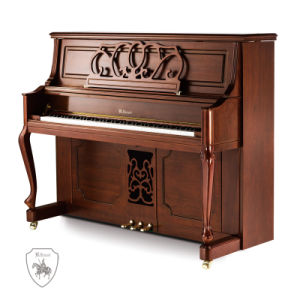GrandPiano: (25, 28, 282, 252)
